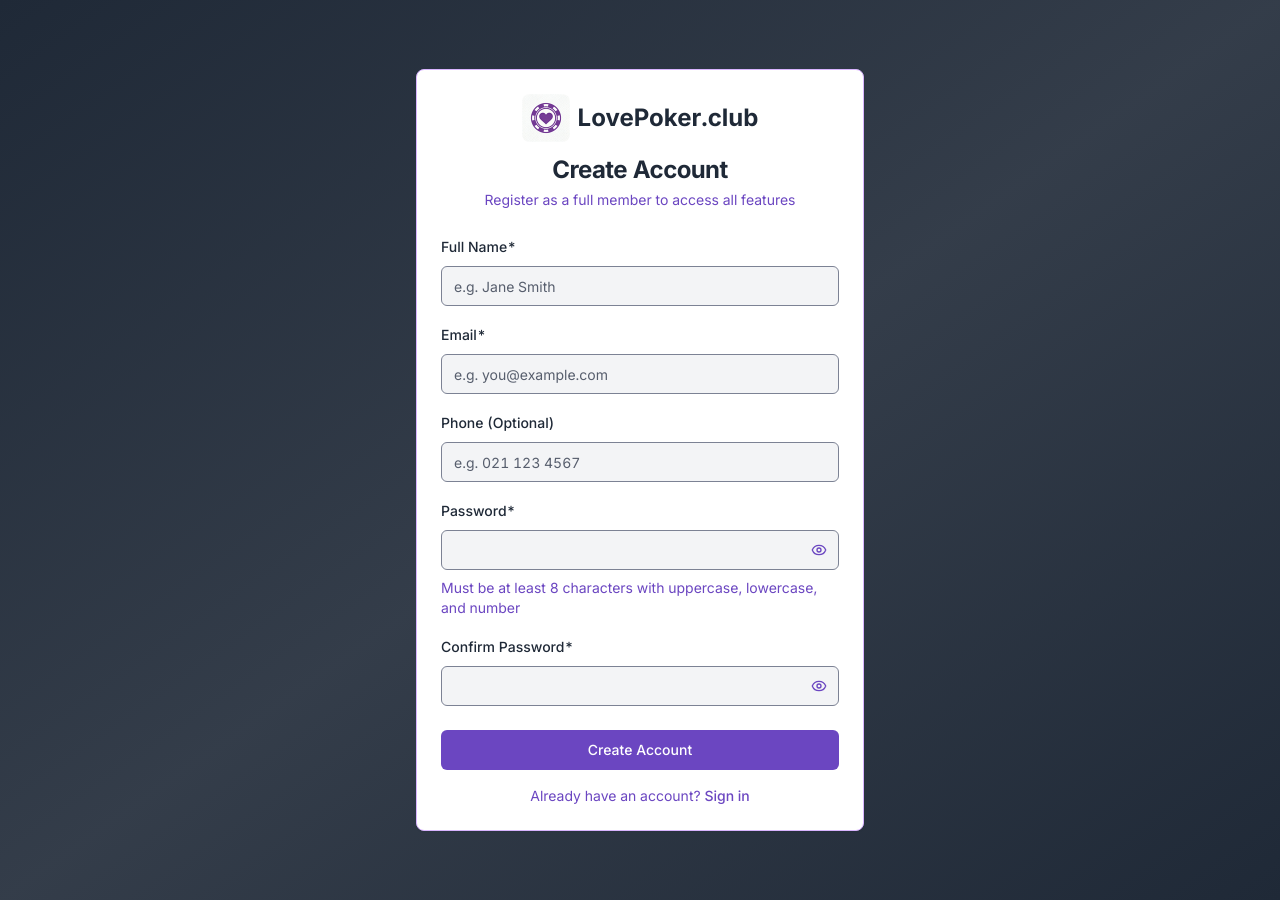
Test: Register page › puts a taken email under the email field
The width and height of the screenshot is (1280, 900).
Type "Ada Admin" into the field labelled "Full Name*" at (640, 286), box [441,266,839,306]
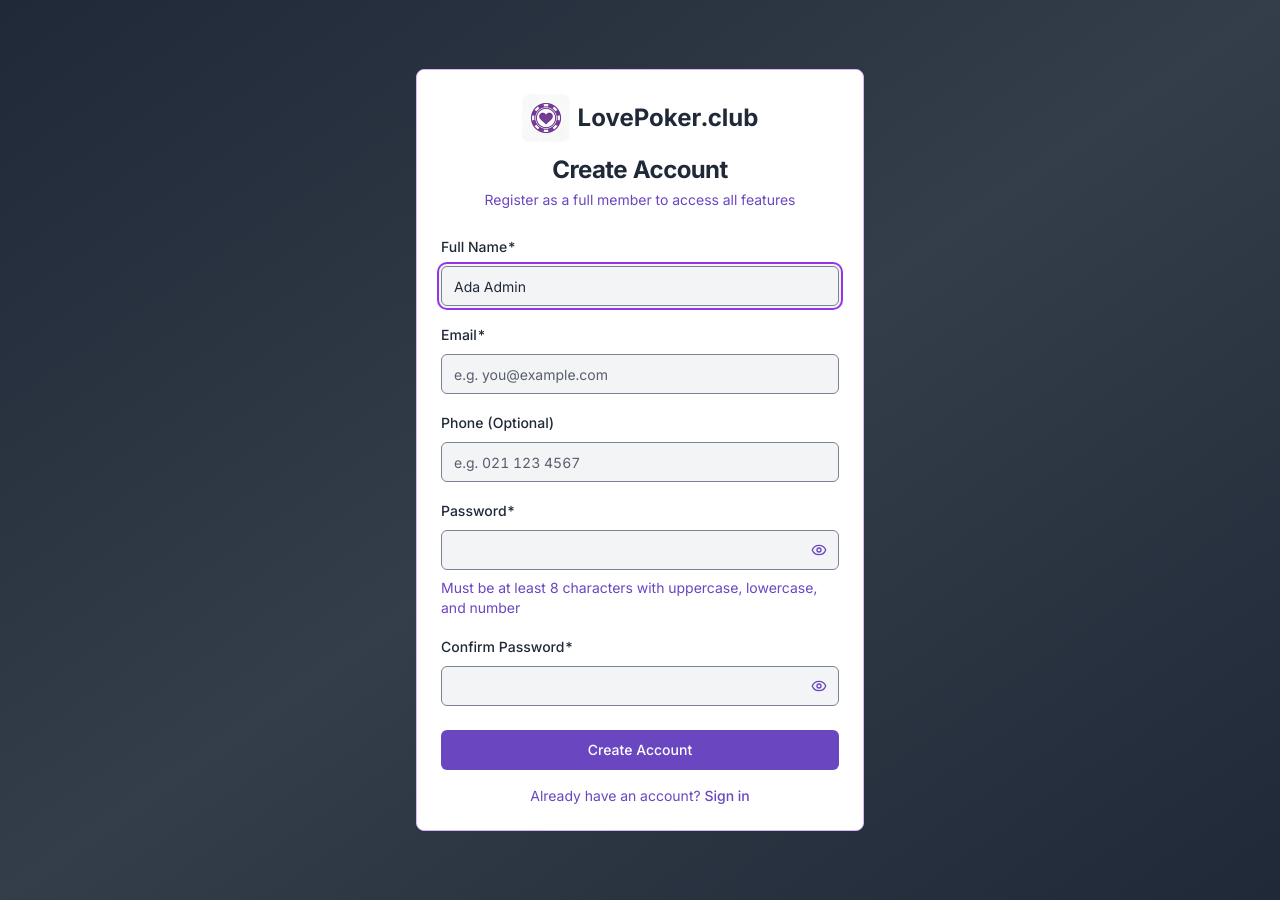
Type "ada@example.test" into the field labelled "Email*" at (640, 374), box [441,354,839,394]
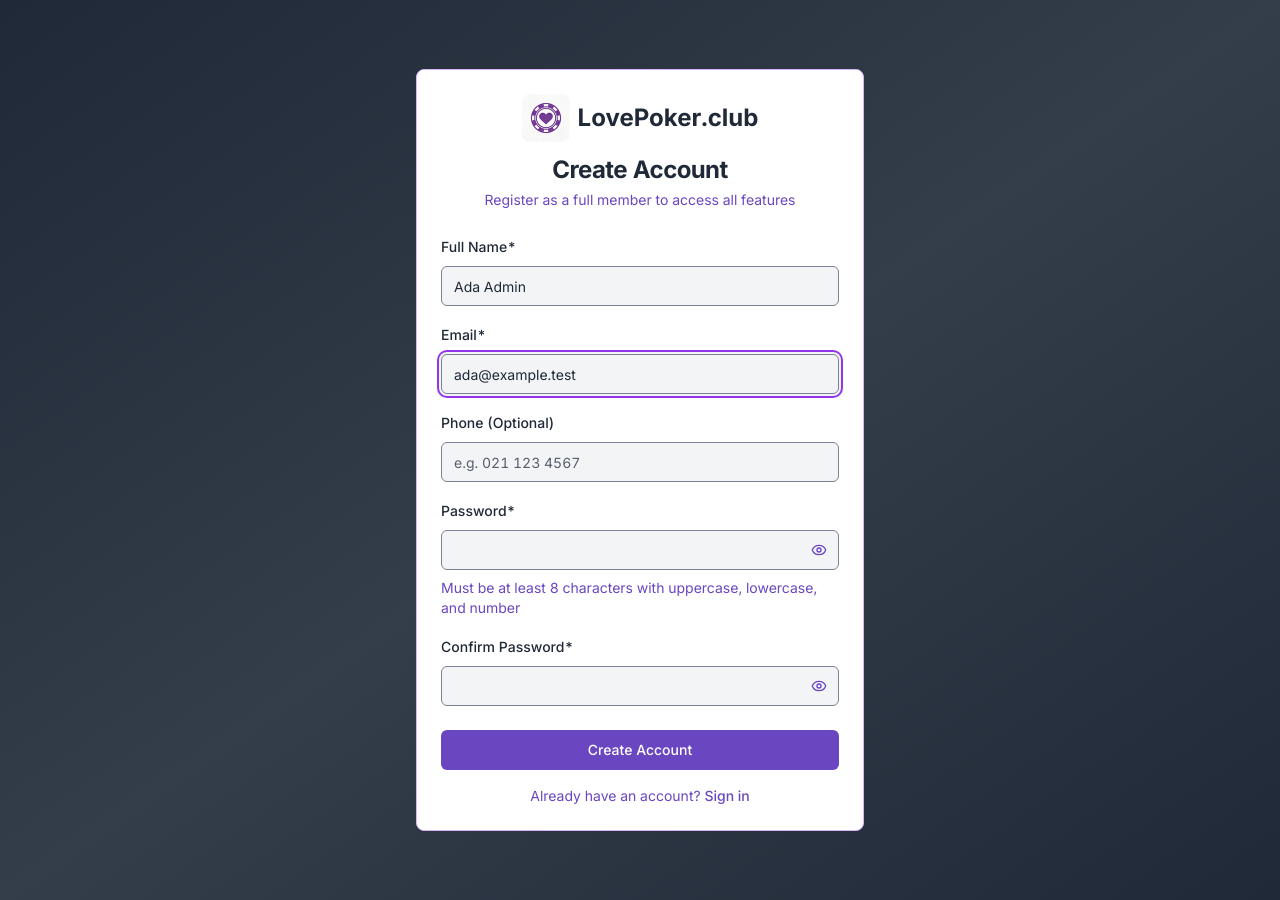
Type "Sturdy-Pass2" into the password field labelled "Password*" at (640, 550), box [441,530,839,570]
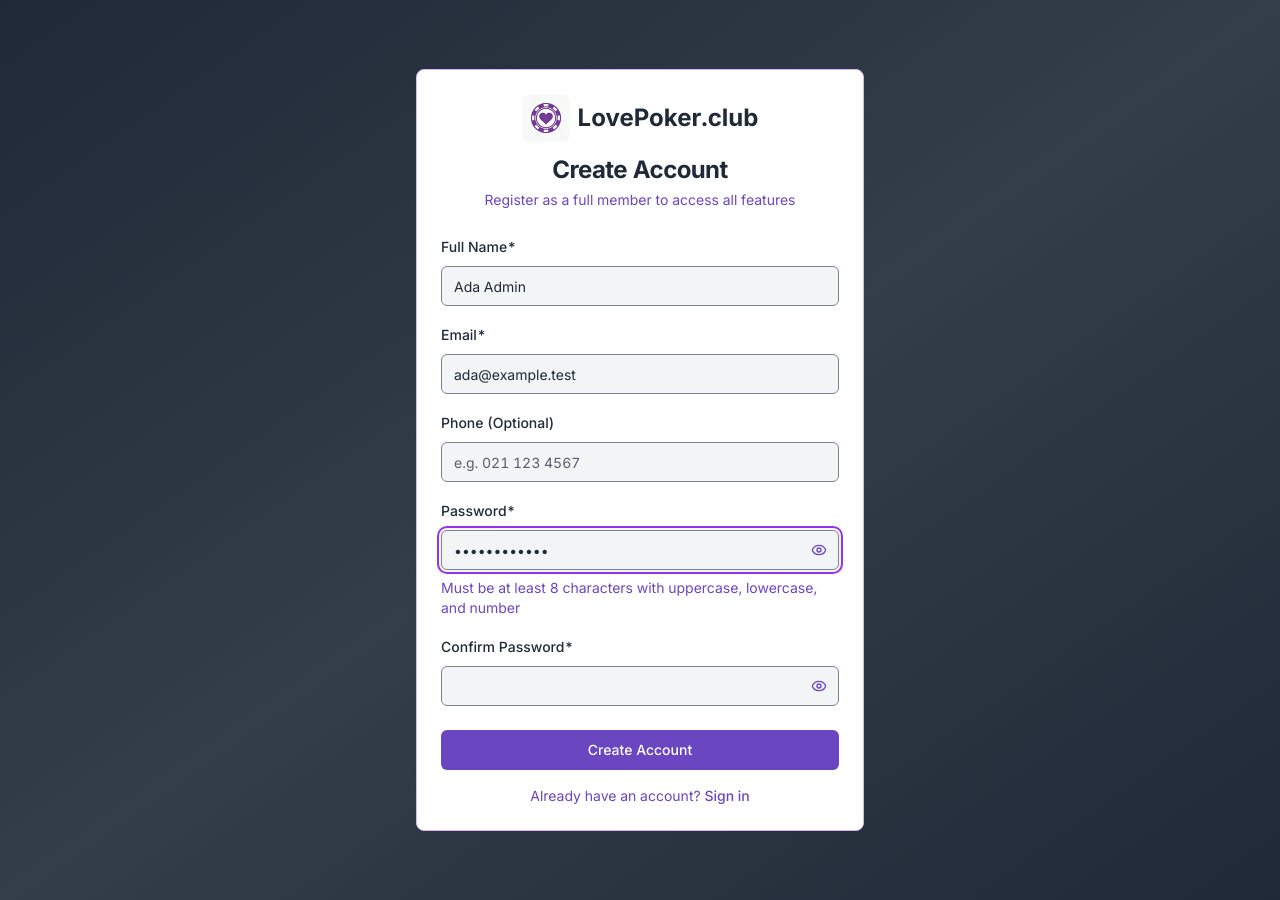
Type "Sturdy-Pass2" into the password field labelled "Confirm Password*" at (640, 686), box [441,666,839,706]
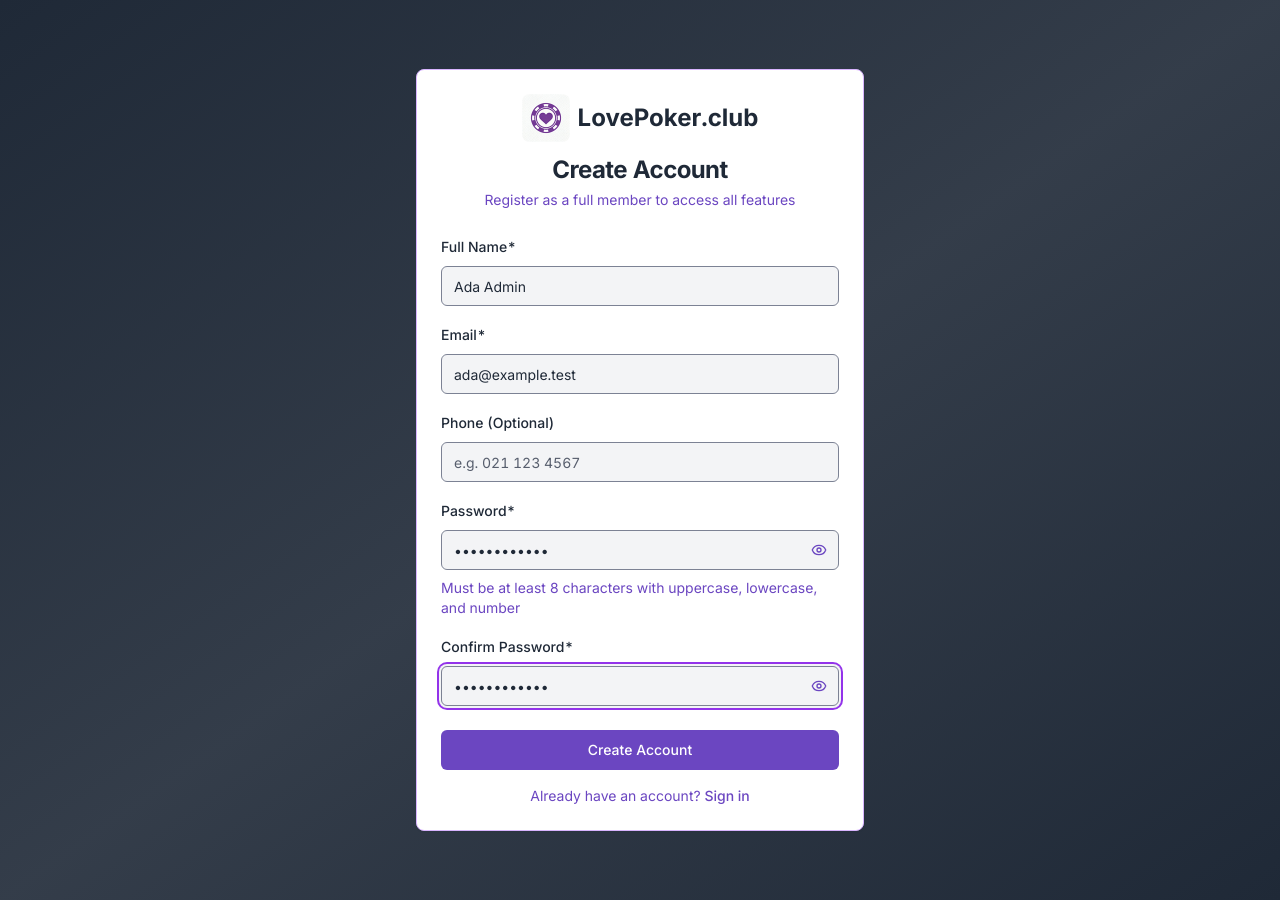
Click the button "Create Account" at (640, 750), box [441,730,839,770]
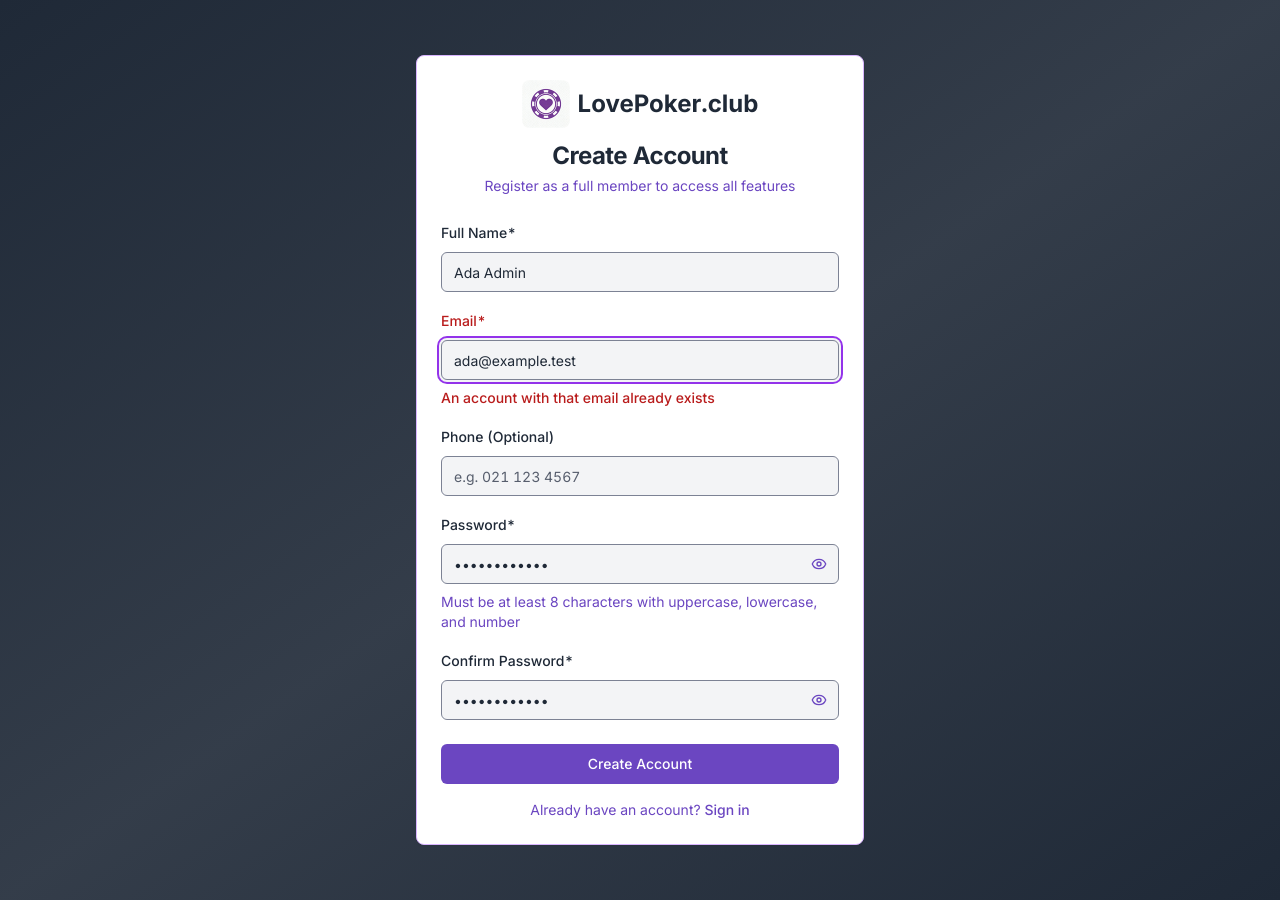
Expected: the text "An account with that email already exists" is shown, [441,389,715,406]
